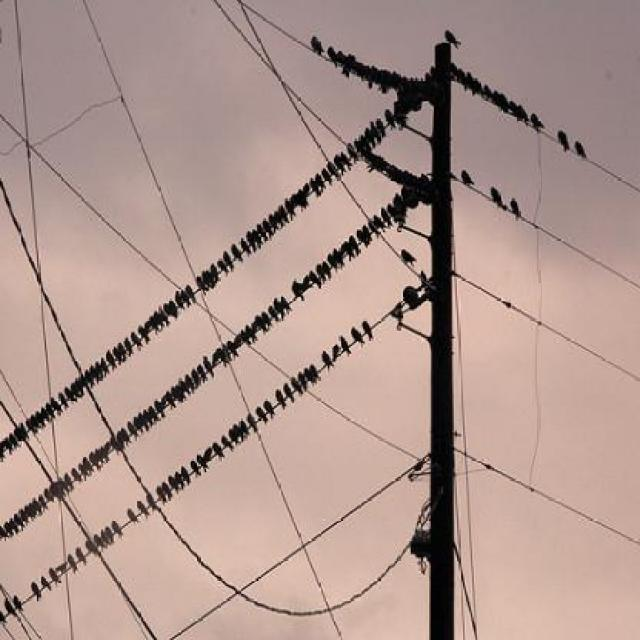pole: (374, 24, 480, 640)
